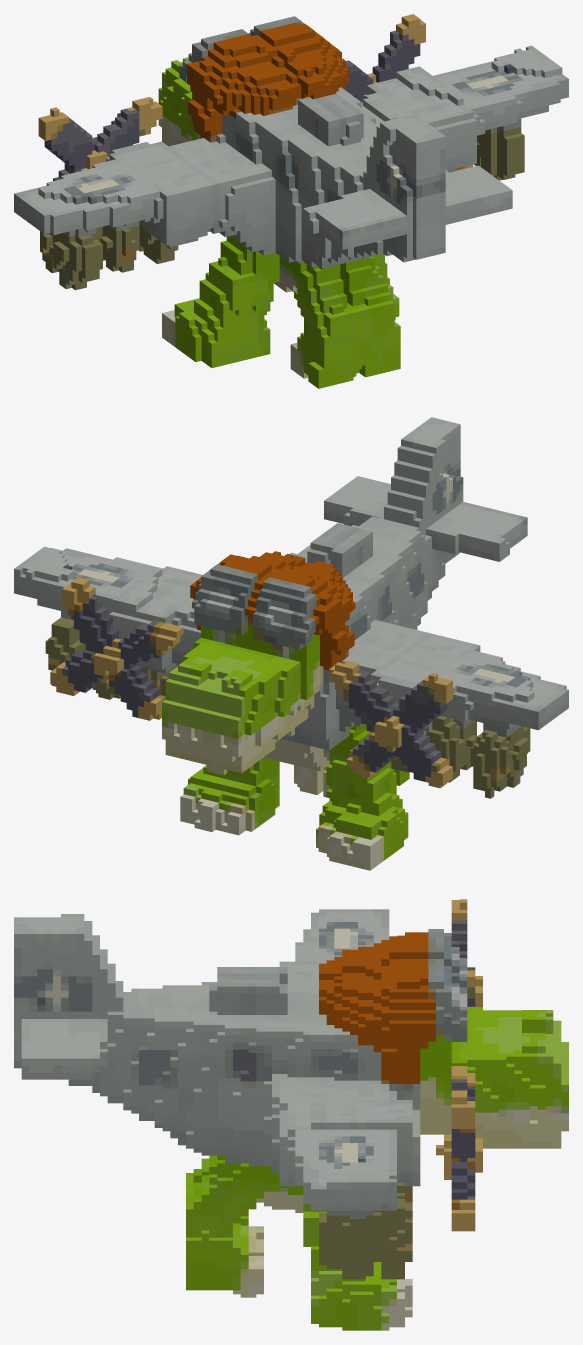
Rendered from BombardiroCrocodilo.glb.
The picture shows the model from 3 angles, top to bottom: view 1: azimuth 30°, elevation 25°; view 2: azimuth 150°, elevation 25°; view 3: azimuth 270°, elevation 25°; orthographic projection. The views are drawn at different scales.
Parts seen in each view (by area): view 1: geometry_0; view 2: geometry_0; view 3: geometry_0.
Part boxes in pixels (x1,y1,x2,y2): geometry_0: (14, 14, 568, 388); geometry_0: (14, 417, 568, 870); geometry_0: (14, 899, 568, 1330).
Size of the model in its own units: 1.82 by 1 by 1.45.
